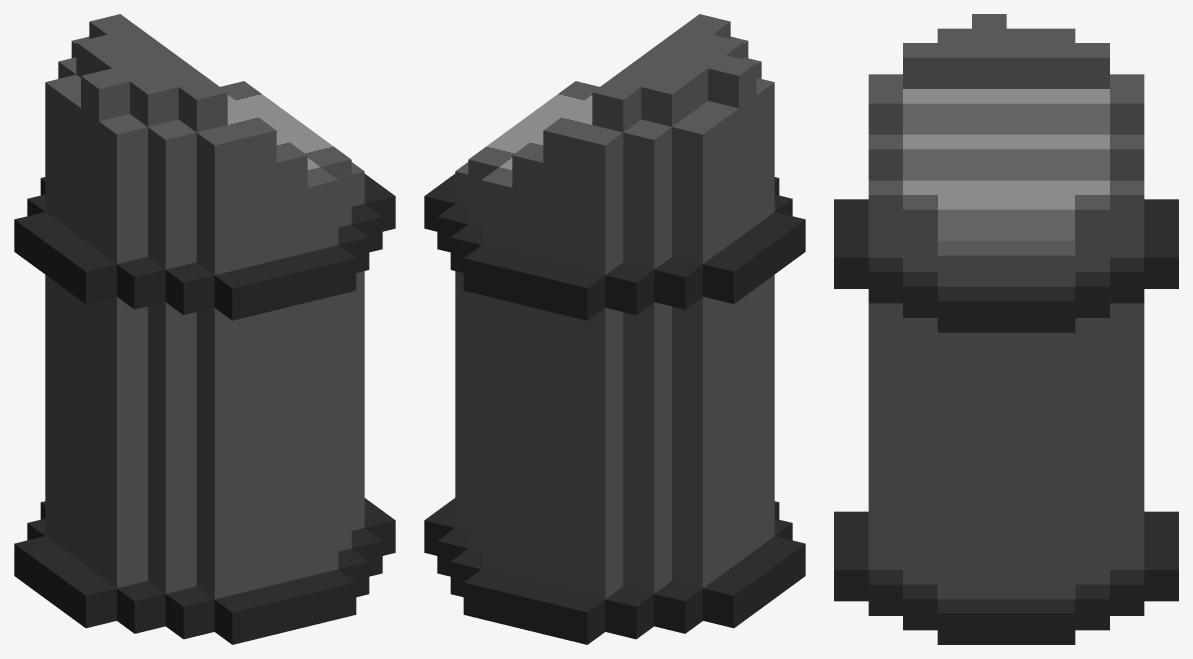
The model's file is Kosz2.dae.
3 renders of one model, left to right at view 1: azimuth 30°, elevation 25°; view 2: azimuth 150°, elevation 25°; view 3: azimuth 270°, elevation 25°, orthographic. The views are drawn at different scales.
Parts seen in each view (by area): view 1: KoszNaSmieci; view 2: KoszNaSmieci; view 3: KoszNaSmieci.
Boxes of the visible parts, bbox=[...] form: KoszNaSmieci: bbox=[14, 14, 395, 644]; KoszNaSmieci: bbox=[424, 14, 805, 644]; KoszNaSmieci: bbox=[834, 14, 1178, 644].
Size of the model in its own units: 10 by 16 by 10.
Materials: 1 (1 with a texture image).
